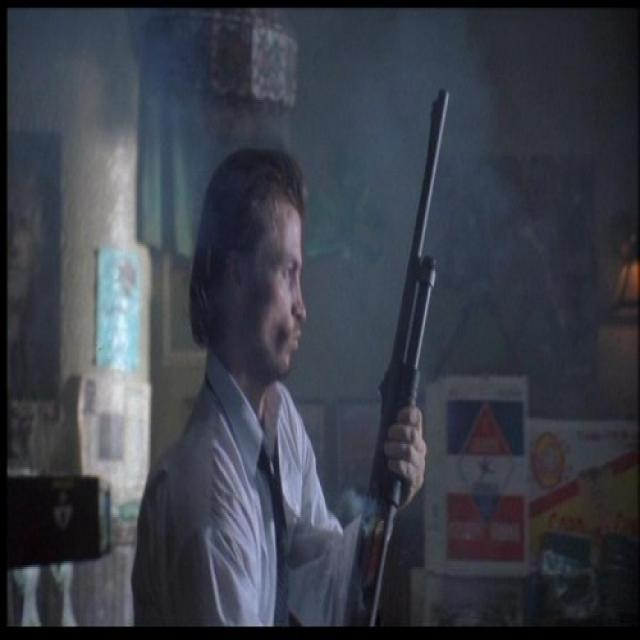rifle: (335, 79, 456, 640)
